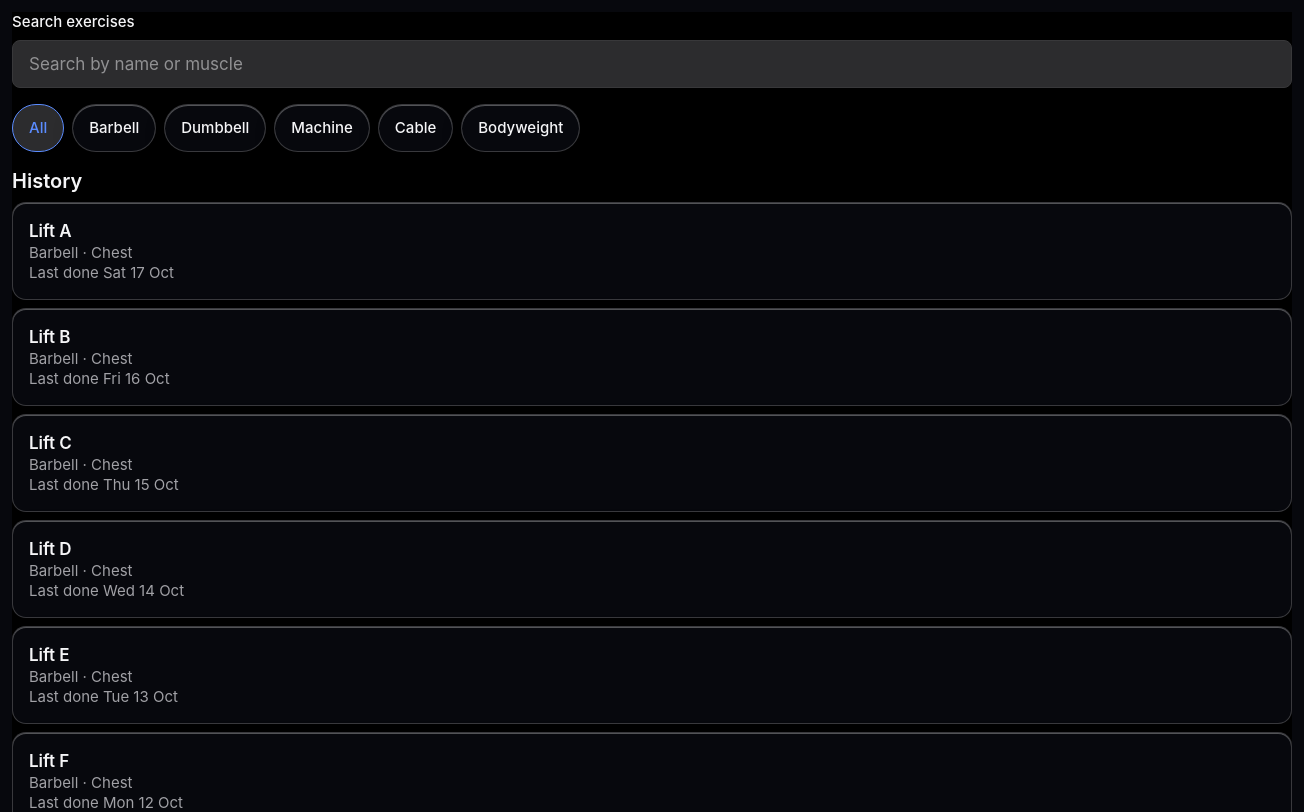
Test: ExercisePicker history › gives way to the search results while searching
Type "Lift C" into the search field labelled "Search exercises" at (652, 64), box [12,40,1292,88]
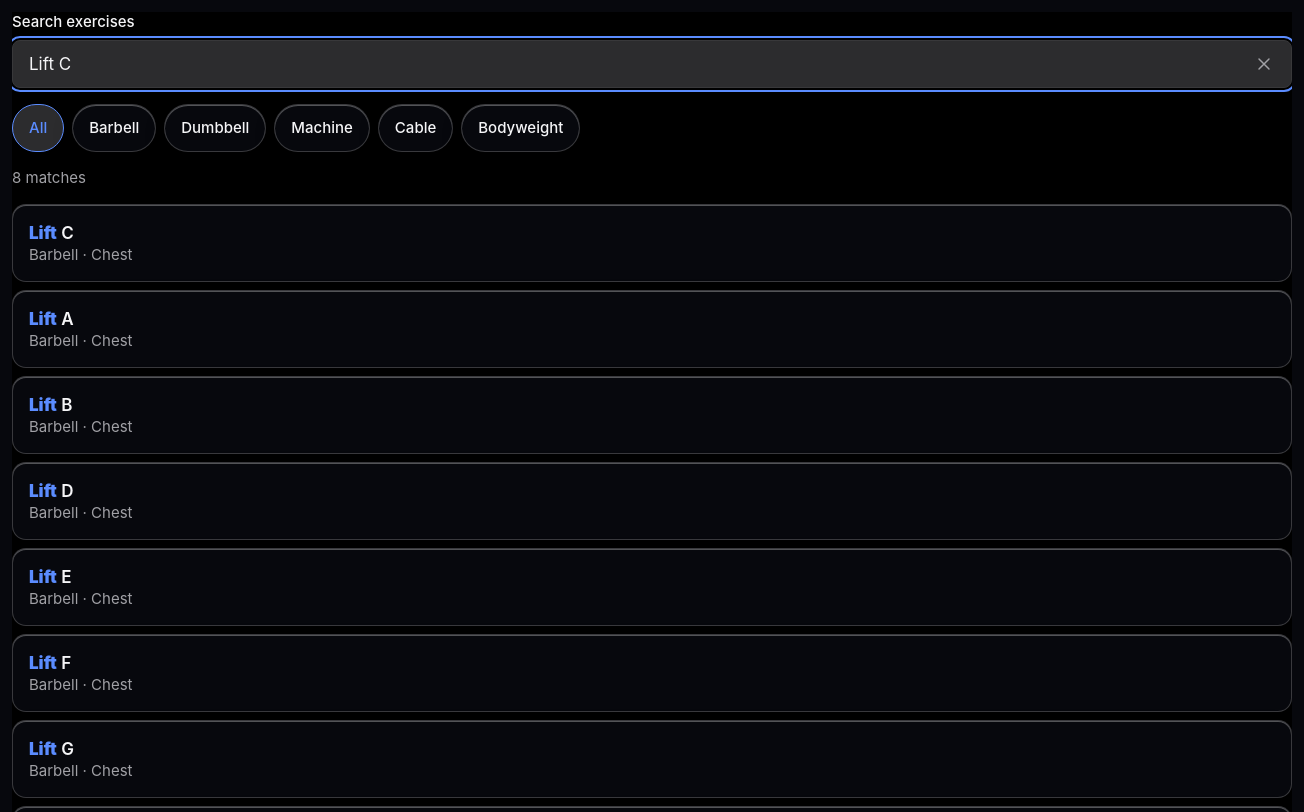
Expected: the heading "History" is gone
Expected: the text "8 matches" is shown, [12,168,86,187]
